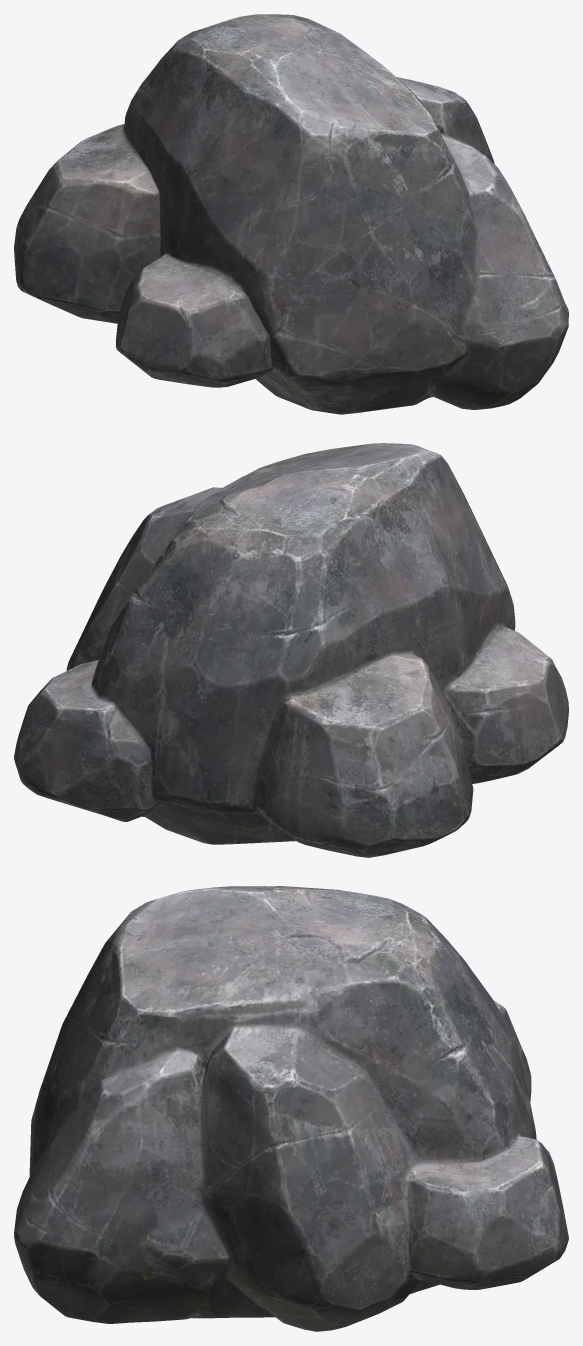
3 renders of one model, top to bottom at view 1: azimuth 30°, elevation 25°; view 2: azimuth 150°, elevation 25°; view 3: azimuth 270°, elevation 25°, orthographic. The views are drawn at different scales.
Parts seen in each view (by area): view 1: SM_Stone_Boulder_01v2_LOD0; view 2: SM_Stone_Boulder_01v2_LOD0; view 3: SM_Stone_Boulder_01v2_LOD0.
Part boxes in pixels (<box>): SM_Stone_Boulder_01v2_LOD0: <box>14,14,568,414</box>; SM_Stone_Boulder_01v2_LOD0: <box>14,443,568,857</box>; SM_Stone_Boulder_01v2_LOD0: <box>14,886,568,1331</box>.
Size of the model in its own units: 2.16 by 1.68 by 2.23.
1 material, 1 textured.
